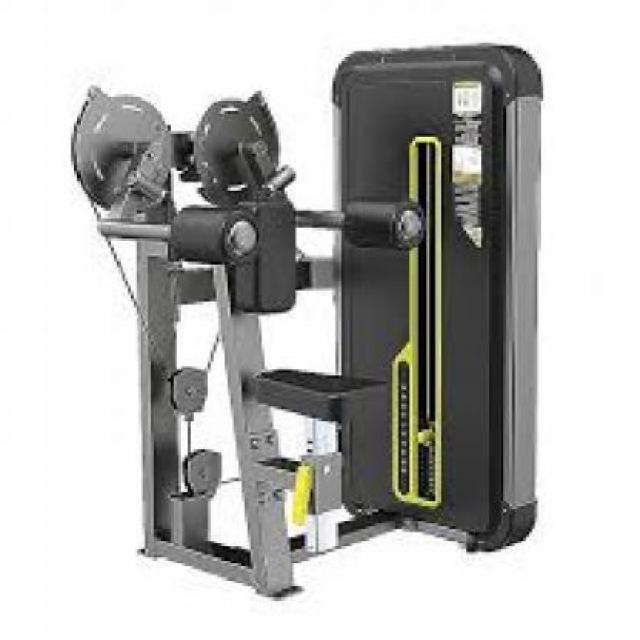lateral raises machine: (70, 36, 542, 602)
